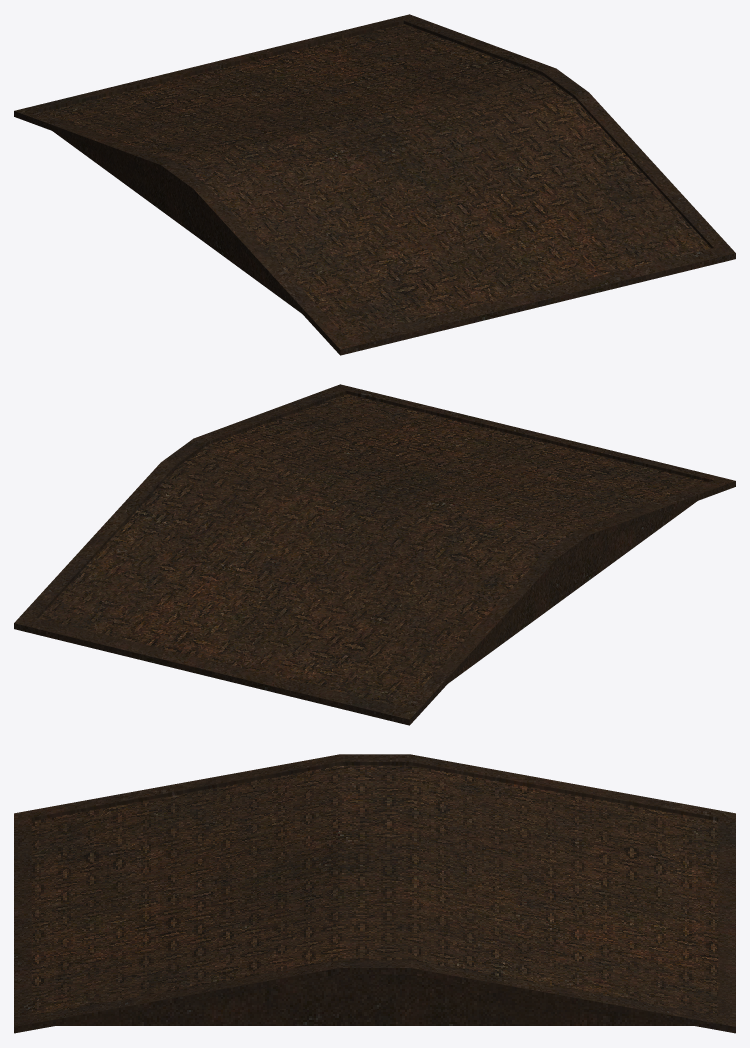
The model's file is tunnel_entrance_platform_1.glb.
3 renders of one model, top to bottom at view 1: azimuth 30°, elevation 25°; view 2: azimuth 150°, elevation 25°; view 3: azimuth 270°, elevation 25°, orthographic. The views are drawn at different scales.
Visible parts, largest first — view 1: tunnel_entrance_platform_1; view 2: tunnel_entrance_platform_1; view 3: tunnel_entrance_platform_1.
Part boxes in pixels (x1,y1,x2,y2): tunnel_entrance_platform_1: [14, 14, 735, 355]; tunnel_entrance_platform_1: [14, 384, 735, 725]; tunnel_entrance_platform_1: [14, 754, 735, 1033].
Bounding box in the file's own units: 1.4 × 0.2 × 2.
Materials: 2 (2 with a texture image).
